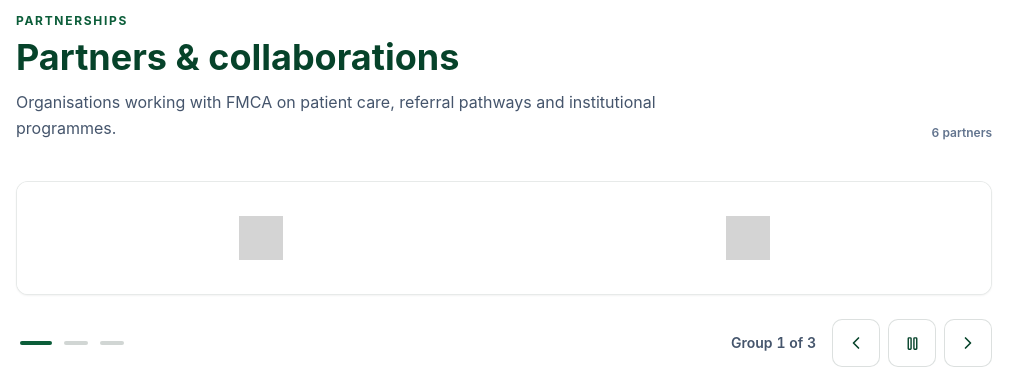
Test: partners home section › pauses automatic advance with the pause control and resumes on demand
The width and height of the screenshot is (1009, 384).
Click the button named "Pause automatic advance". click: {"x": 912, "y": 343}
box: x1=888 y1=319 x2=936 y2=367
Wait 14000 ms
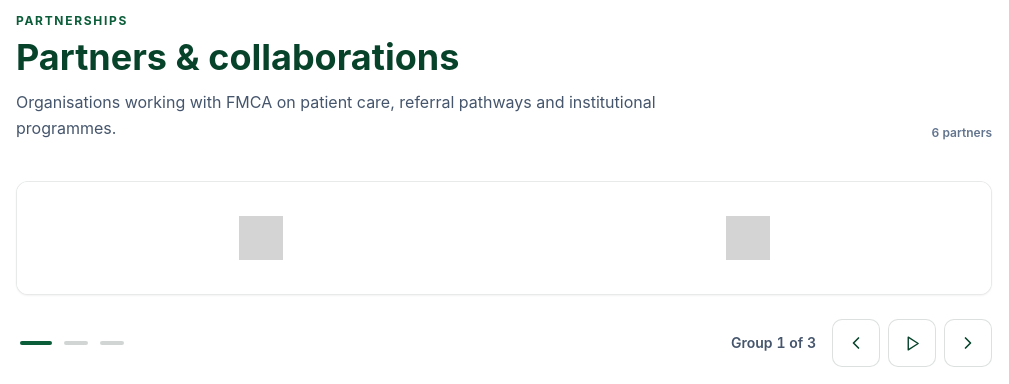
Expected: the text "Group 1 of 3" is shown, x1=731 y1=333 x2=816 y2=353
Click the button named "Resume automatic advance". click: {"x": 912, "y": 343}
box: x1=888 y1=319 x2=936 y2=367
Wait 3500 ms
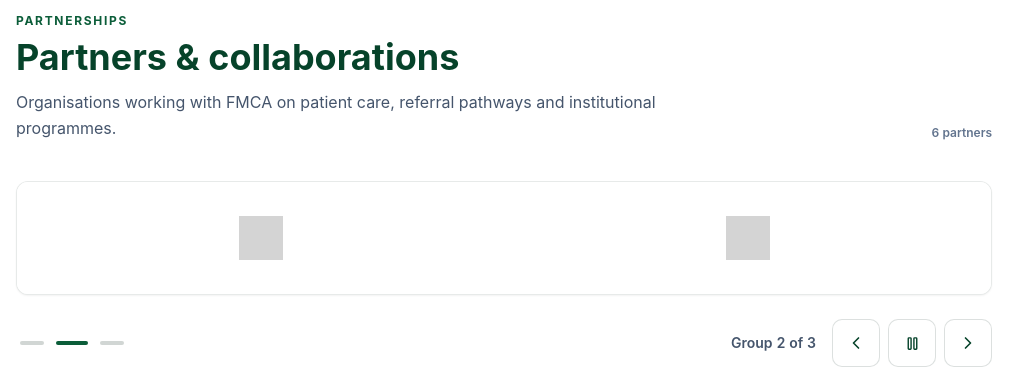
Expected: the text "Group 2 of 3" is shown, x1=731 y1=333 x2=816 y2=353
